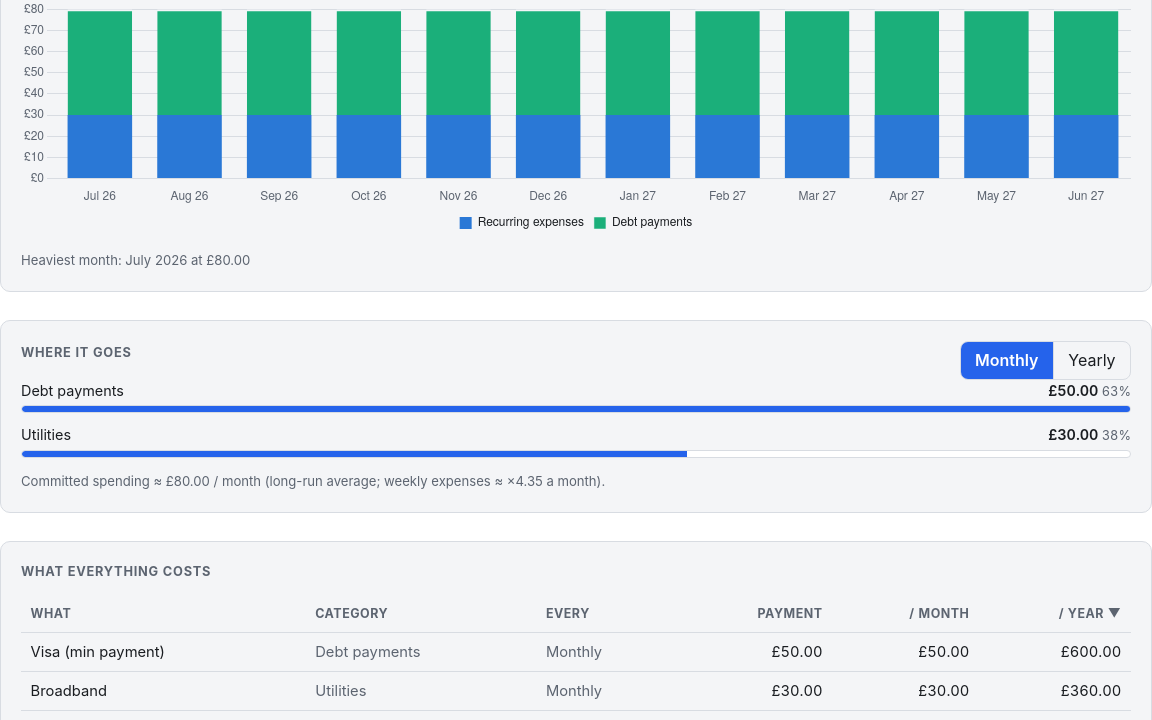
Test: Dashboard v2 › shows the category breakdown with a monthly ↔ yearly toggle
The width and height of the screenshot is (1152, 720).
(page scrolled)
Expected: the heading "Where it goes" is shown, [21, 343, 132, 362]
Expected: the text "Utilities" is shown, [21, 424, 71, 446]
Yearly view: £360 and £600.
Click the button "Yearly" at (1091, 360), box [1053, 342, 1130, 379]
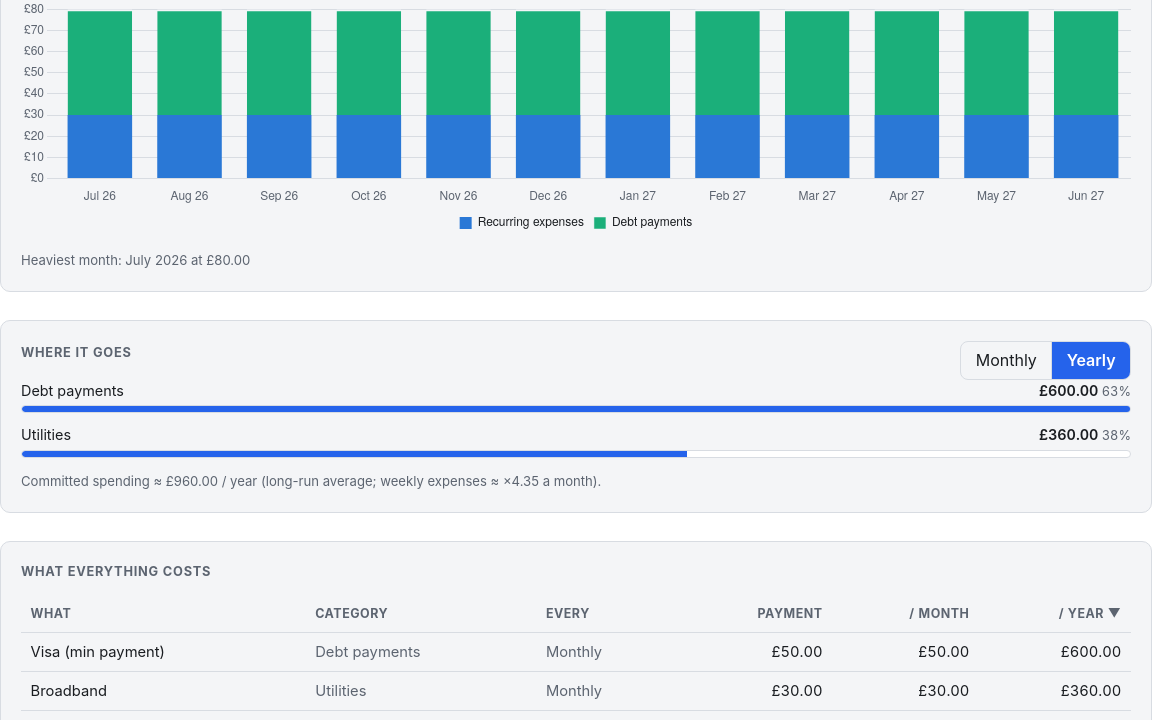
Expected: the text "£360.00" below "63" is shown, [1039, 426, 1098, 443]
Expected: the text "£600.00" next to "63" is shown, [1039, 382, 1098, 399]
